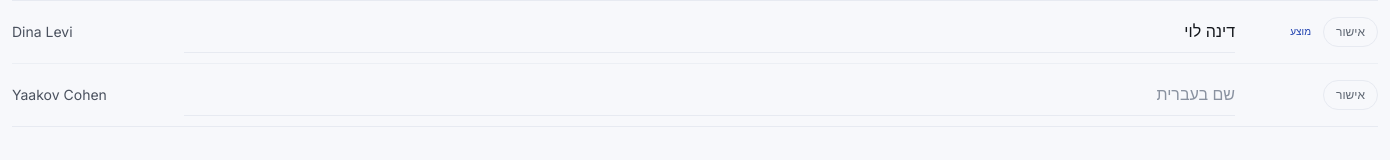
/admin/names — a successful save › reports the row as confirmed and shows no error
The width and height of the screenshot is (1390, 160).
Click the button "אישור" next to "מוצע" at (1350, 32), box [1323, 17, 1378, 47]
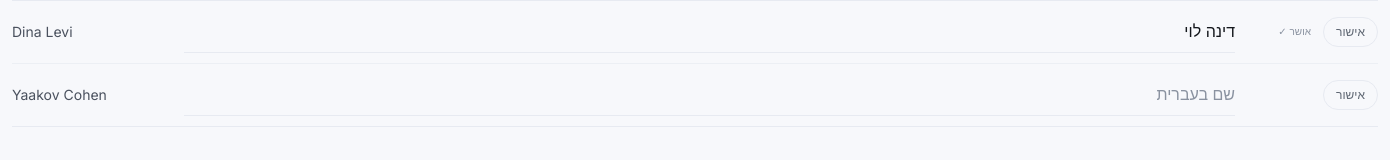
Check: the text "✓ אושר" is shown, box [1278, 25, 1311, 37]
